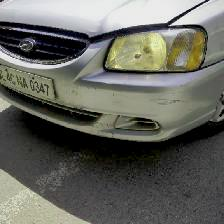bumper_scratch: (65, 86, 134, 108), (148, 95, 189, 111)
